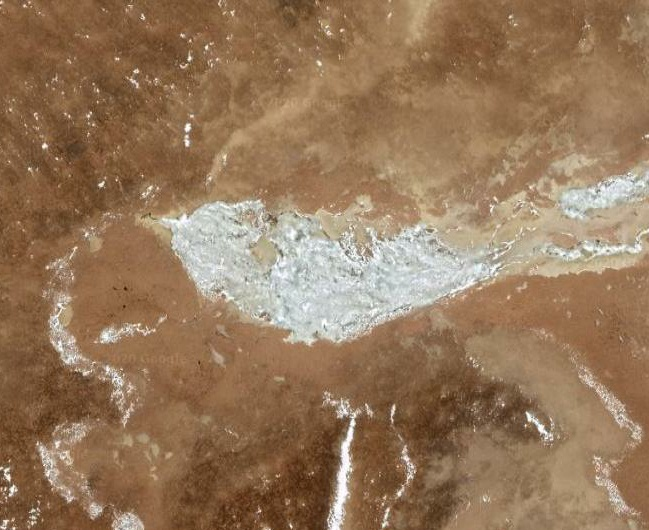slope: (160, 193, 515, 348), (553, 160, 648, 221)
